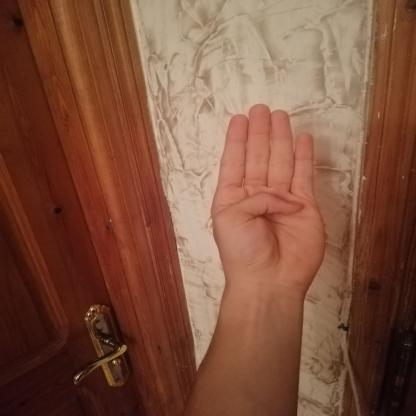KAAF: (192, 96, 344, 297)
